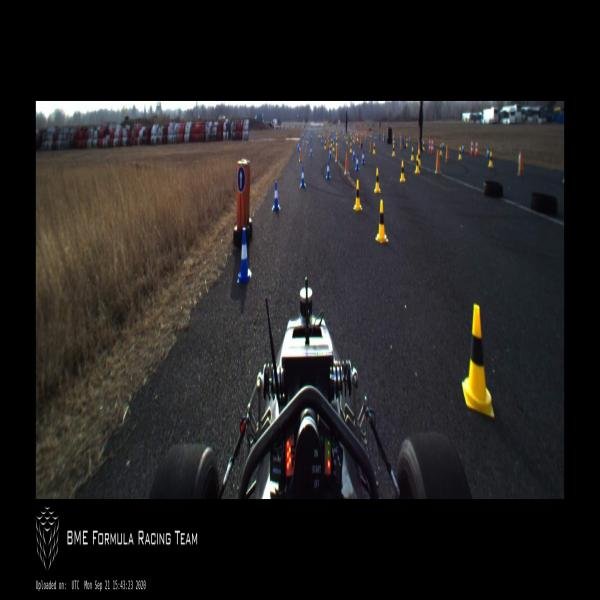blue_cone: (238, 228, 251, 282), (272, 182, 280, 210), (300, 167, 305, 186), (326, 162, 331, 178), (356, 155, 360, 170), (361, 151, 365, 164), (487, 147, 490, 159), (352, 148, 355, 160), (329, 148, 332, 158), (310, 146, 312, 156), (442, 140, 444, 148), (462, 144, 464, 152), (297, 145, 299, 151), (302, 134, 304, 139), (298, 142, 299, 150), (321, 138, 322, 145), (307, 140, 308, 146), (334, 135, 335, 141), (309, 131, 310, 137), (409, 136, 410, 142), (311, 135, 312, 140), (315, 132, 316, 136)
large_orange_cone: (475, 140, 478, 155), (431, 138, 434, 153), (470, 140, 473, 154), (429, 138, 431, 153)
yellow_cone: (462, 303, 495, 417), (376, 200, 389, 242), (354, 179, 362, 210), (374, 168, 380, 193), (400, 161, 405, 182), (414, 156, 419, 173), (488, 152, 493, 167), (410, 147, 414, 161), (459, 146, 462, 160), (392, 144, 395, 157), (372, 144, 375, 154), (392, 134, 395, 144), (418, 150, 420, 164), (440, 144, 442, 155), (350, 143, 352, 153), (332, 141, 334, 151), (422, 141, 424, 150), (328, 139, 330, 148), (406, 138, 408, 146), (324, 141, 326, 149), (346, 137, 348, 144), (352, 135, 354, 142), (350, 132, 352, 139), (336, 131, 338, 138), (370, 131, 372, 137), (361, 130, 363, 136), (320, 132, 322, 138), (331, 139, 332, 147), (336, 138, 337, 146), (357, 134, 358, 141), (344, 132, 345, 138), (376, 132, 377, 138)
